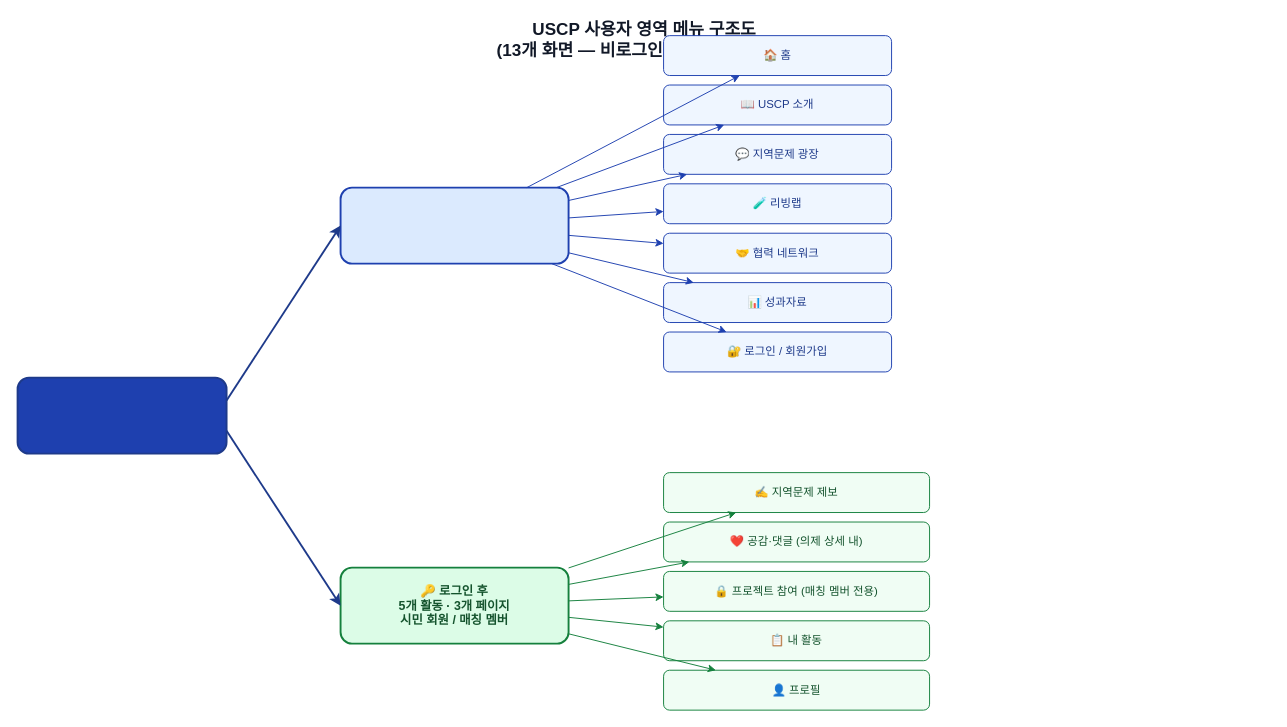
Image size: 1287x727. Some labels were removed from this diagram. Each missing label, with the centre of its shape:
🌐 비로그인 공개 7개 영역 · 10개 화면 누구나 열람 가능: the point at 454,225
👥 사용자 영역 13개 화면: the point at 121,415
